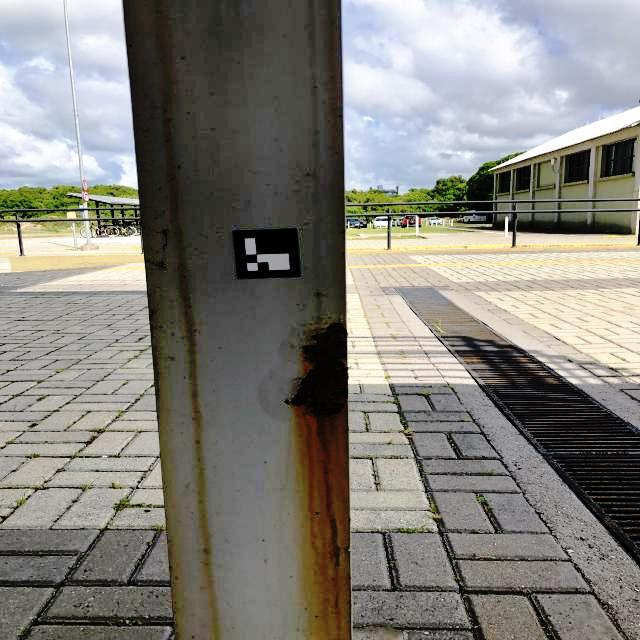Corrosion: (284, 321, 349, 417)
